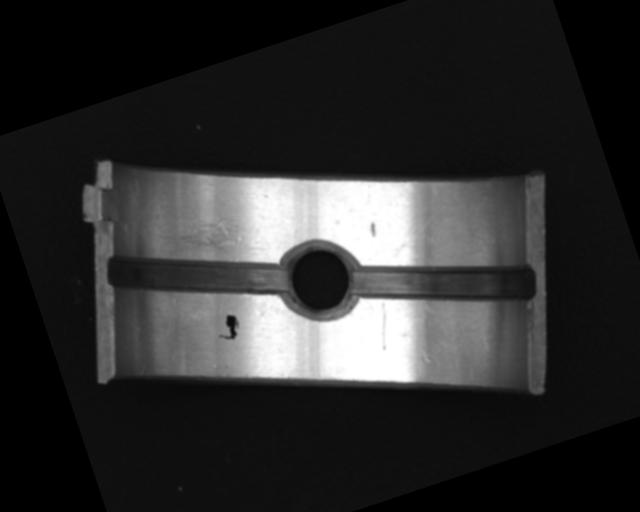blot: (212, 310, 244, 344)
bruise: (366, 220, 380, 239)
gap: (102, 207, 291, 343), (347, 216, 539, 348)
hole: (272, 233, 369, 331)
nick: (369, 301, 400, 351)
scratch: (150, 206, 265, 287)
